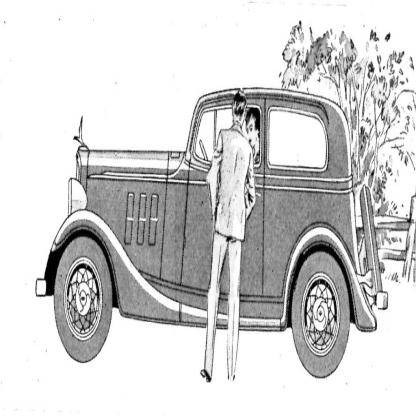Car: (36, 83, 388, 377)
